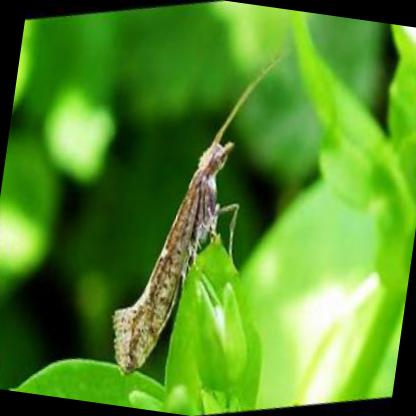plutella: (107, 44, 284, 373)
